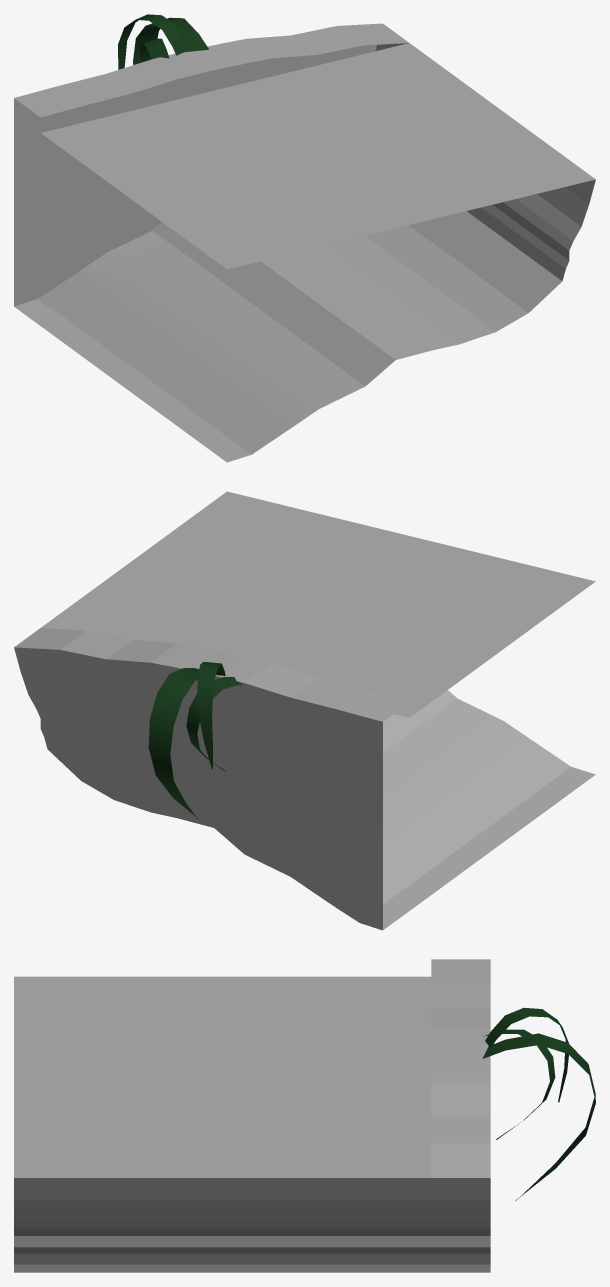
The model's file is Environment_Earth_Half_Left_Final_001.fbx.
3 views of the same model, one above another, from view 1: azimuth 30°, elevation 25°; view 2: azimuth 150°, elevation 25°; view 3: azimuth 270°, elevation 25° (orthographic). The views are drawn at different scales.
Parts seen in each view (by area): view 1: Environment_Earth_Half_Left_003; view 2: Environment_Earth_Half_Left_003; view 3: Environment_Earth_Half_Left_003.
Part boxes in pixels (x1,y1,x2,y2): Environment_Earth_Half_Left_003: [14, 14, 595, 462]; Environment_Earth_Half_Left_003: [14, 491, 595, 930]; Environment_Earth_Half_Left_003: [14, 959, 595, 1272].
Size of the model in its own units: 99.96 by 61.74 by 122.
